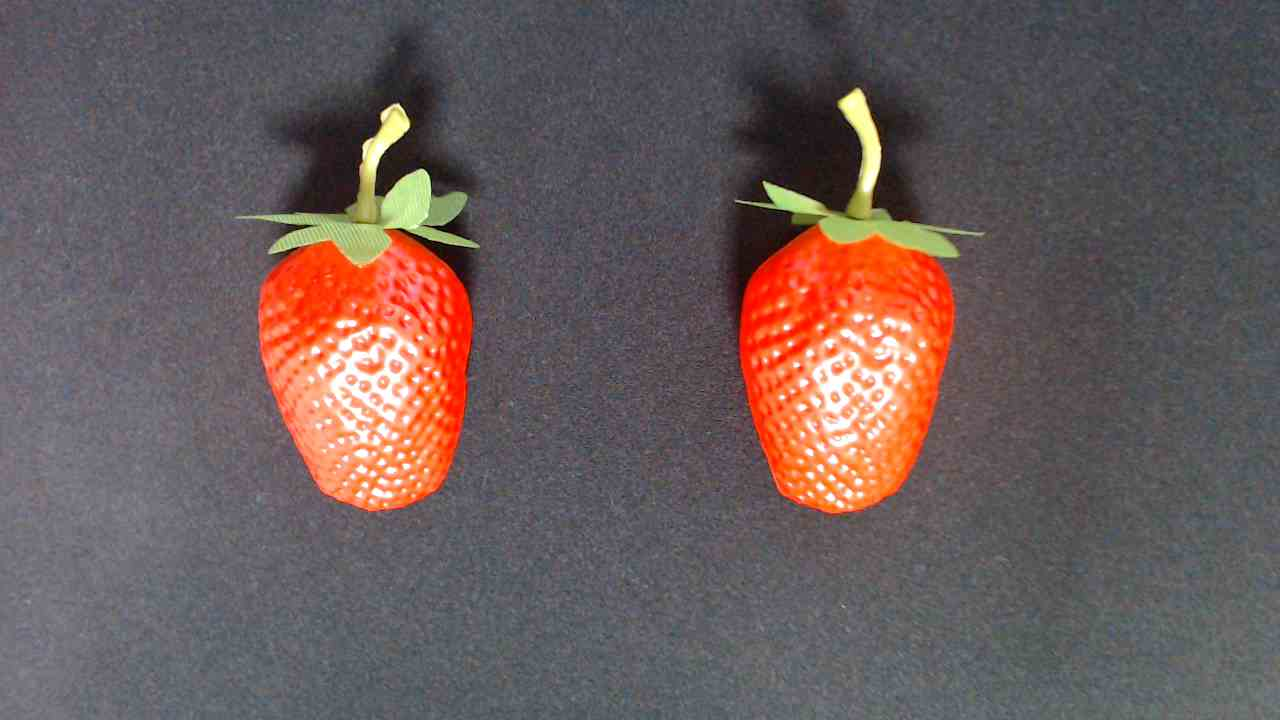strawberry: (693, 180, 965, 508), (241, 203, 504, 528)
